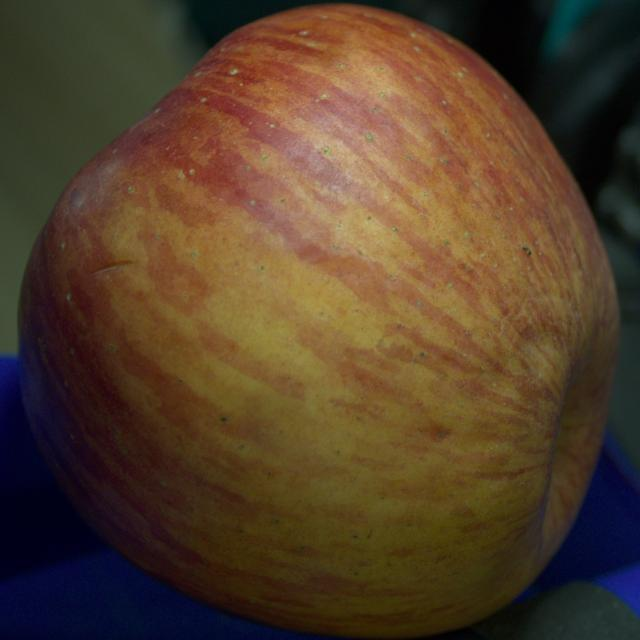apple: (19, 4, 619, 638)
bruise: (505, 313, 570, 377)
scratch: (91, 260, 134, 274)
